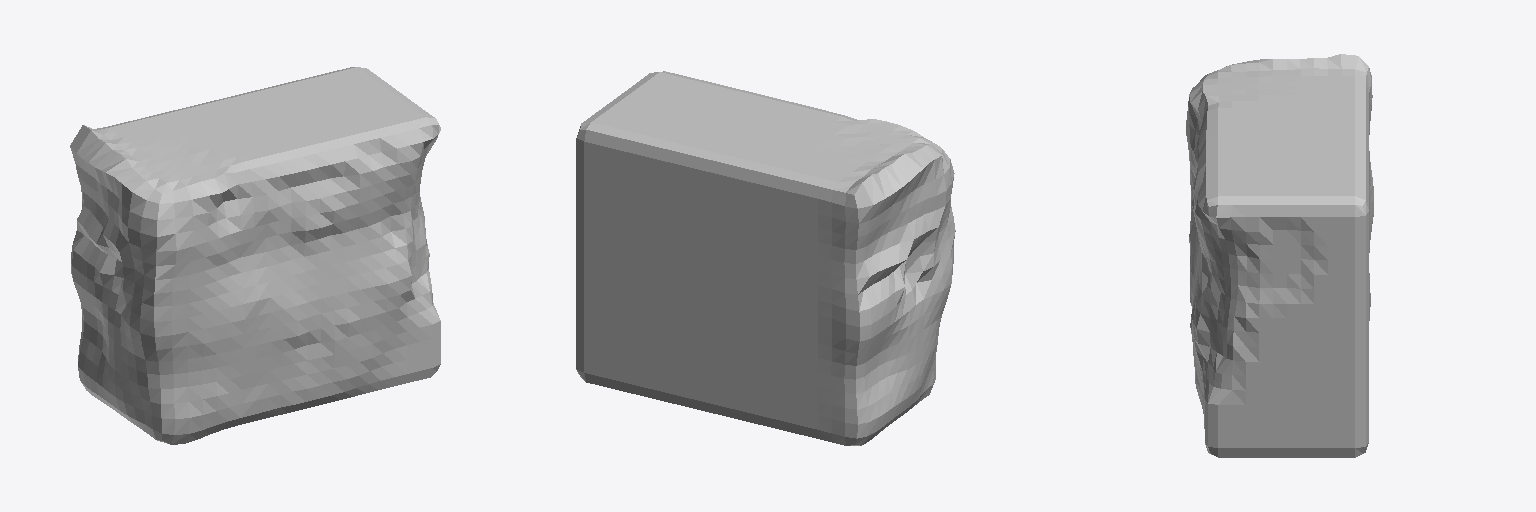
The model's file is env_level1_Canyon_Rock04.obj.
The picture shows the model from 3 angles: view 1: azimuth 30°, elevation 25°; view 2: azimuth 150°, elevation 25°; view 3: azimuth 270°, elevation 25°; orthographic projection.
Parts seen in each view (by area): view 1: rockwall_a04; view 2: rockwall_a04; view 3: rockwall_a04.
Boxes of the visible parts, x1,y1,x2,y2 form: rockwall_a04: [70, 67, 440, 444]; rockwall_a04: [576, 71, 955, 445]; rockwall_a04: [1186, 54, 1373, 457].
Bounding box in the file's own units: 5399 × 4583 × 2872.